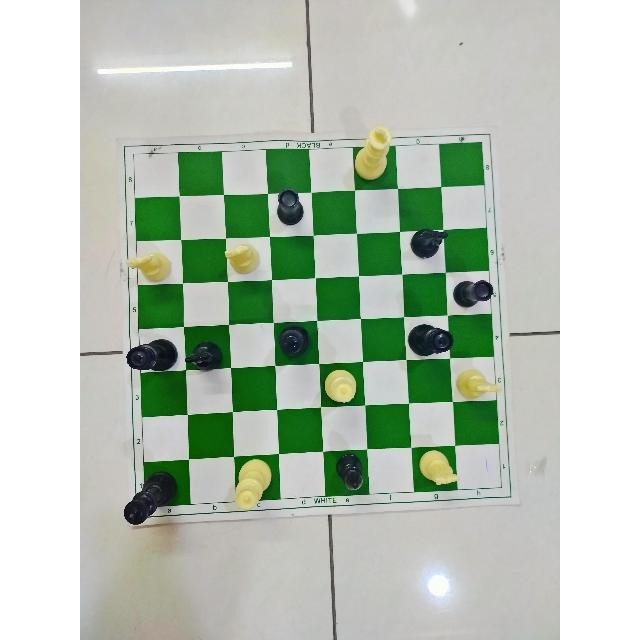black-bishop: (327, 444, 367, 502)
black-king: (120, 466, 182, 531), (274, 321, 319, 363)
black-knight: (181, 332, 227, 374), (408, 223, 449, 267)
black-queen: (124, 332, 180, 376), (404, 320, 456, 358)
black-rook: (451, 275, 496, 313), (275, 186, 311, 232)
white-king: (354, 126, 400, 190)
white-knight: (415, 443, 463, 495), (123, 249, 179, 289), (452, 365, 504, 403), (221, 240, 267, 276)
white-queen: (229, 456, 276, 517), (321, 366, 362, 407)
